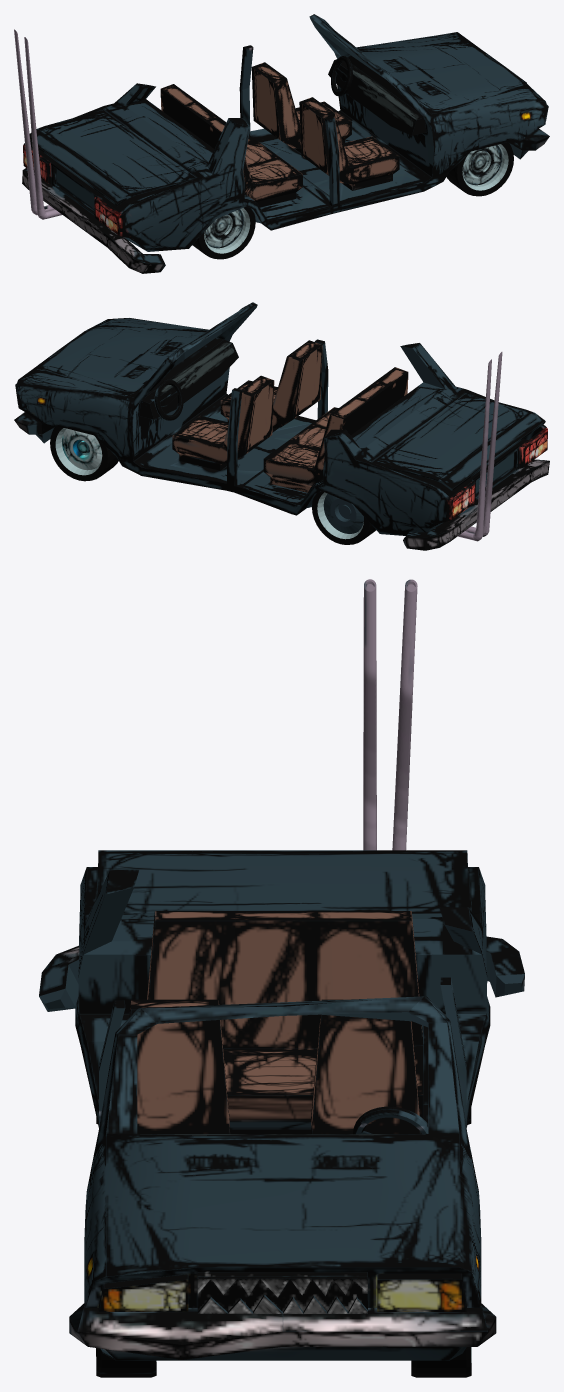
The model's file is JIGApaint.fbx.
3 views of the same model, one above another, from view 1: azimuth 30°, elevation 25°; view 2: azimuth 150°, elevation 25°; view 3: azimuth 270°, elevation 25° (orthographic). The views are drawn at different scales.
Visible parts, largest first — view 1: Cylinder.002, Cylinder.006, Cylinder.009, Cylinder.005, Cylinder.001, Cylinder.004, Cylinder.007; view 2: Cylinder.002, Cylinder.006, Cylinder.005, Cylinder.009, Cylinder.003, Cylinder.004, Cylinder.008; view 3: Cylinder.002, Cylinder.006, Cylinder.005, Cylinder.009, Cylinder.004, Cylinder.003, Cylinder.001.
Part boxes in pixels (left/top/right/bottom): Cylinder.002: left=22, top=14, right=549, bottom=273; Cylinder.006: left=160, top=84, right=302, bottom=207; Cylinder.009: left=299, top=97, right=399, bottom=190; Cylinder.005: left=251, top=62, right=351, bottom=153; Cylinder.001: left=446, top=142, right=513, bottom=196; Cylinder.004: left=14, top=29, right=62, bottom=219; Cylinder.007: left=192, top=207, right=255, bottom=259; Cylinder.002: left=14, top=302, right=549, bottom=550; Cylinder.006: left=263, top=367, right=408, bottom=492; Cylinder.005: left=172, top=375, right=274, bottom=470; Cylinder.009: left=220, top=340, right=322, bottom=432; Cylinder.003: left=50, top=426, right=118, bottom=481; Cylinder.004: left=458, top=352, right=502, bottom=541; Cylinder.008: left=312, top=491, right=375, bottom=544; Cylinder.002: left=39, top=850, right=524, bottom=1360; Cylinder.006: left=147, top=911, right=423, bottom=1134; Cylinder.005: left=311, top=999, right=420, bottom=1134; Cylinder.009: left=129, top=999, right=230, bottom=1134; Cylinder.004: left=363, top=579, right=417, bottom=850; Cylinder.003: left=411, top=1347, right=471, bottom=1377; Cylinder.001: left=96, top=1348, right=156, bottom=1377.
Bounding box in the file's own units: 688 × 294 × 316.
1 material, 1 textured.
